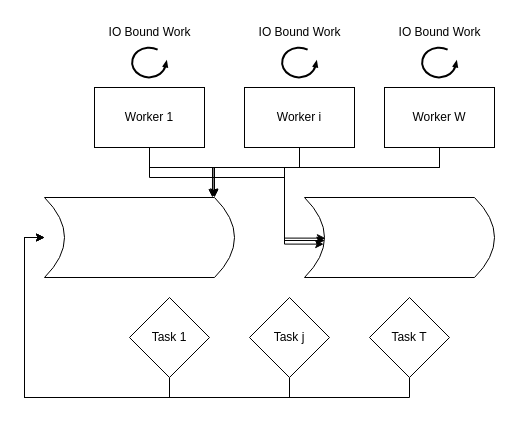
Image size: 512x423. Some labels were removed from this diagram. The centre of each missing label's shape, as x and y in pixels:
Results Channel: point (399, 237)
Tasks Channel: point (139, 237)
